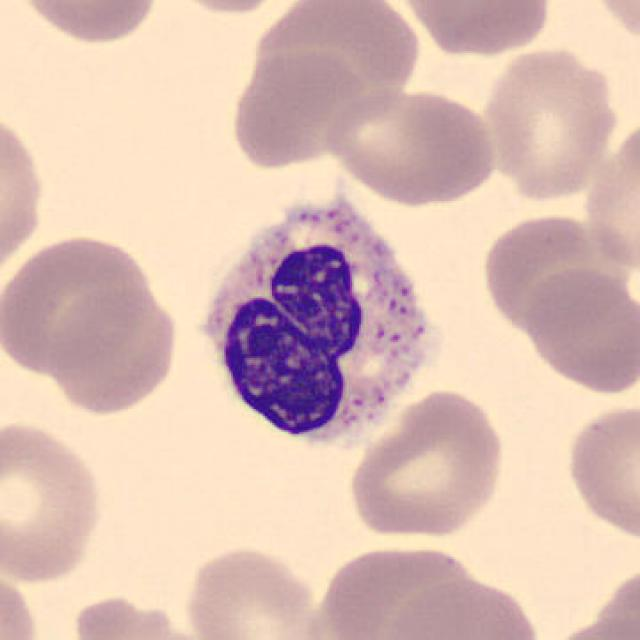Neutrophil: (188, 190, 446, 464)
RBC: (343, 386, 510, 543), (477, 42, 622, 203), (2, 231, 158, 377), (322, 85, 499, 208), (476, 208, 630, 340), (245, 0, 421, 109), (46, 282, 183, 418), (307, 537, 487, 640), (0, 416, 107, 589), (226, 44, 364, 173), (521, 262, 638, 398), (179, 541, 329, 640), (377, 573, 546, 640), (562, 398, 638, 546), (580, 115, 640, 274), (393, 0, 555, 58), (0, 104, 48, 289), (67, 590, 216, 640), (11, 0, 165, 48), (540, 577, 638, 640), (0, 564, 43, 640), (581, 0, 640, 51), (153, 0, 304, 16)
